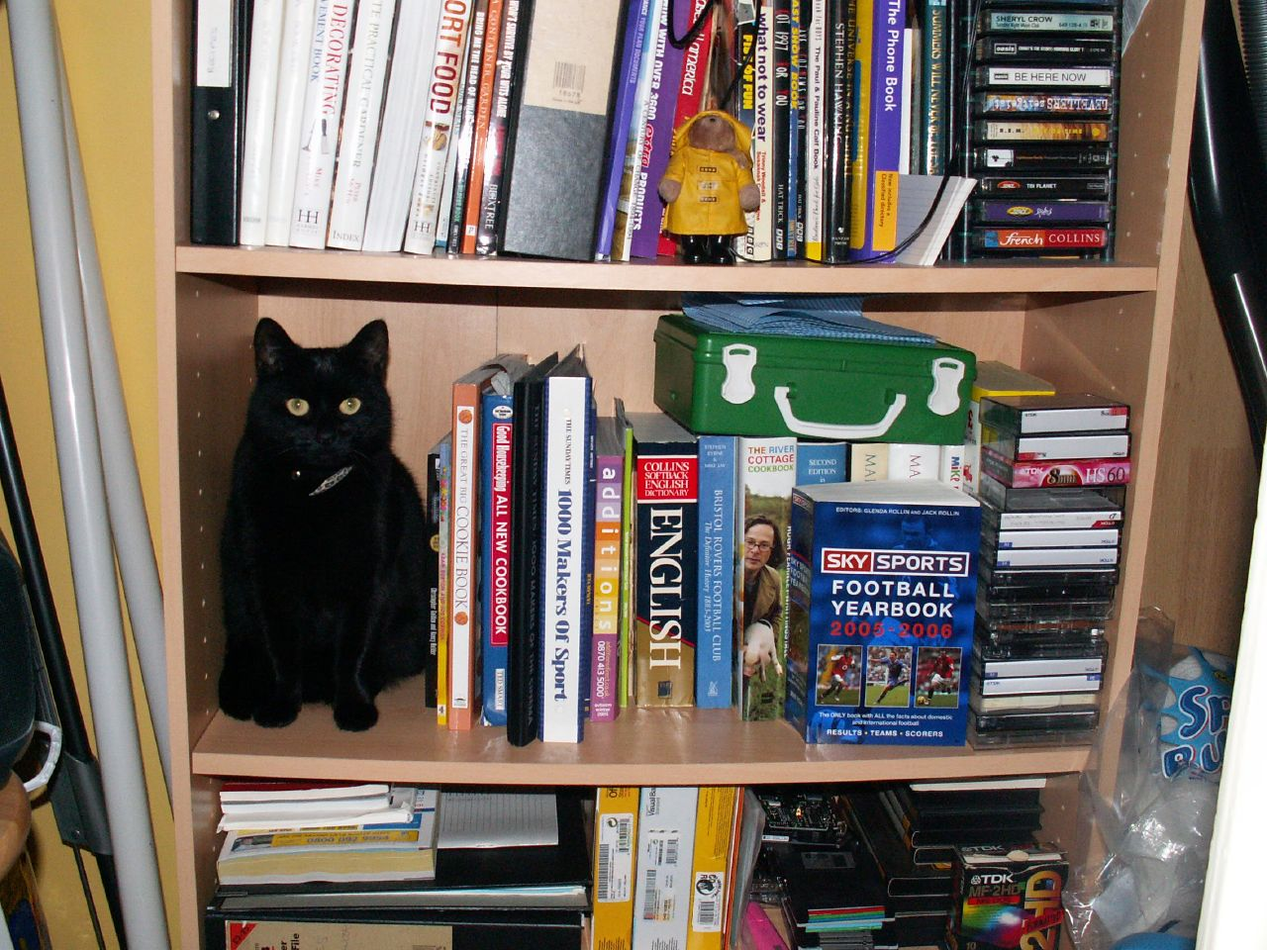cat: (218, 317, 431, 732)
